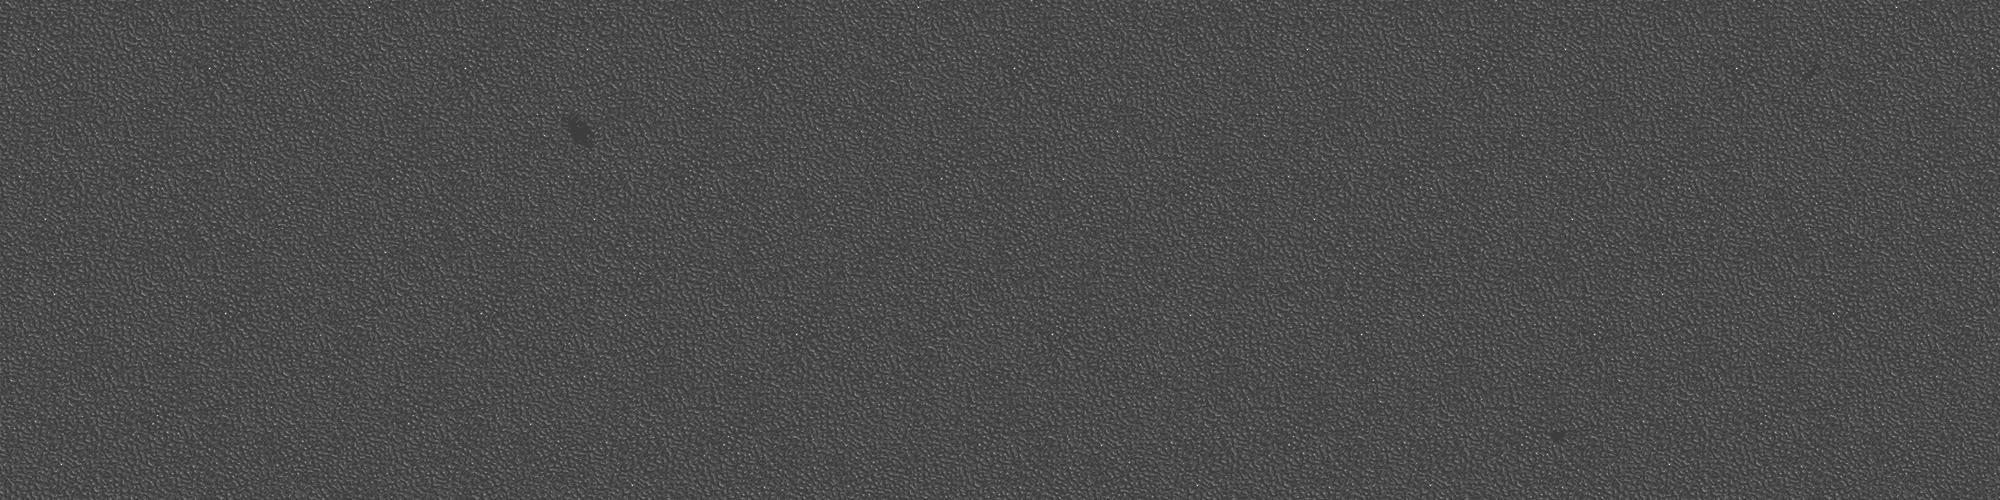Decomposed: (559, 106, 608, 156), (1546, 423, 1569, 444)
